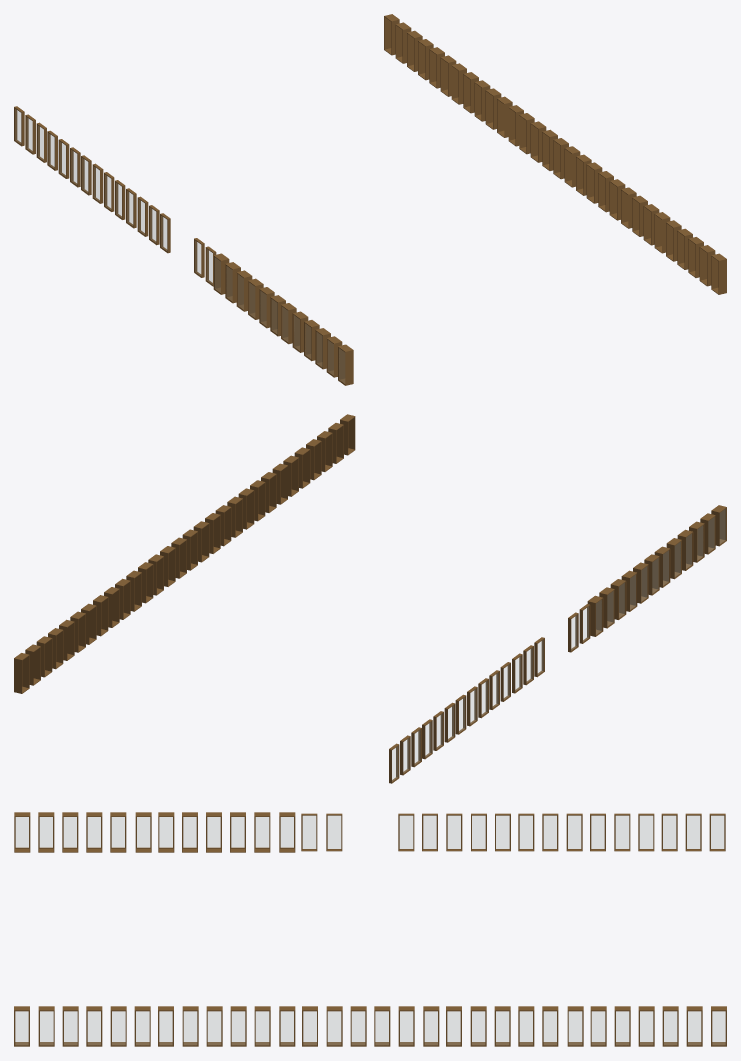
File: insaat_revit.ifc.ifc.ifc.ifc_93.5 Derslikler (B)_IfcWindow.dae
3 views of the same model, one above another, from view 1: azimuth 30°, elevation 25°; view 2: azimuth 150°, elevation 25°; view 3: azimuth 270°, elevation 25° (orthographic). The views are drawn at different scales.
Visible parts, largest first — view 1: 1iMPAZ1gH62xJjAoXoY1TH, 1iMPAZ1gH62xJjAoXoY12i; view 2: 1iMPAZ1gH62xJjAoXoY129; view 3: 1iMPAZ1gH62xJjAoXoY12j, 1iMPAZ1gH62xJjAoXoY12l, 1iMPAZ1gH62xJjAoXoY12W, 1iMPAZ1gH62xJjAoXoY12b, 1iMPAZ1gH62xJjAoXoY12c, 1iMPAZ1gH62xJjAoXoY12d, 1iMPAZ1gH62xJjAoXoY12R, 1iMPAZ1gH62xJjAoXoY12T, 1iMPAZ1gH62xJjAoXoY12G, 1iMPAZ1gH62xJjAoXoY12L, 1iMPAZ1gH62xJjAoXoY1TR, 1iMPAZ1gH62xJjAoXoY1TV (+46 smaller).
Part boxes in pixels (x1,y1,x2,y2): 1iMPAZ1gH62xJjAoXoY1TH: (338, 344, 353, 385); 1iMPAZ1gH62xJjAoXoY12i: (711, 253, 726, 294); 1iMPAZ1gH62xJjAoXoY129: (14, 653, 29, 693); 1iMPAZ1gH62xJjAoXoY12j: (38, 1006, 54, 1046); 1iMPAZ1gH62xJjAoXoY12l: (86, 1006, 102, 1046); 1iMPAZ1gH62xJjAoXoY12W: (110, 1006, 126, 1046); 1iMPAZ1gH62xJjAoXoY12b: (230, 1006, 246, 1046); 1iMPAZ1gH62xJjAoXoY12c: (254, 1006, 270, 1046); 1iMPAZ1gH62xJjAoXoY12d: (279, 1006, 295, 1046); 1iMPAZ1gH62xJjAoXoY12R: (374, 1006, 390, 1046); 1iMPAZ1gH62xJjAoXoY12T: (423, 1006, 439, 1046); 1iMPAZ1gH62xJjAoXoY12G: (494, 1006, 510, 1046); 1iMPAZ1gH62xJjAoXoY12L: (614, 1006, 630, 1046); 1iMPAZ1gH62xJjAoXoY1TR: (158, 812, 174, 852); 1iMPAZ1gH62xJjAoXoY1TV: (254, 812, 270, 852).
Bounding box in the file's own units: 23.45 × 35.64 × 2.
